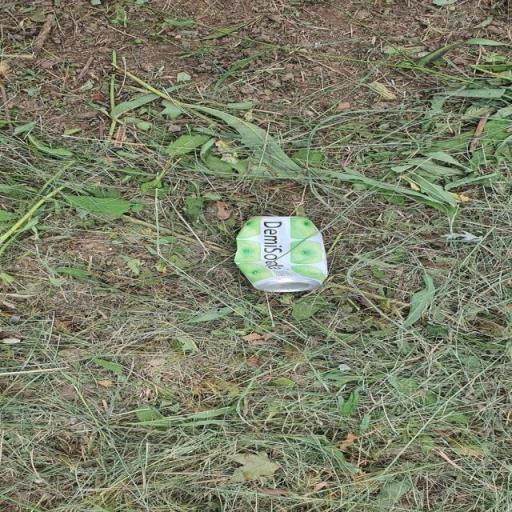metal: (212, 210, 392, 300)
